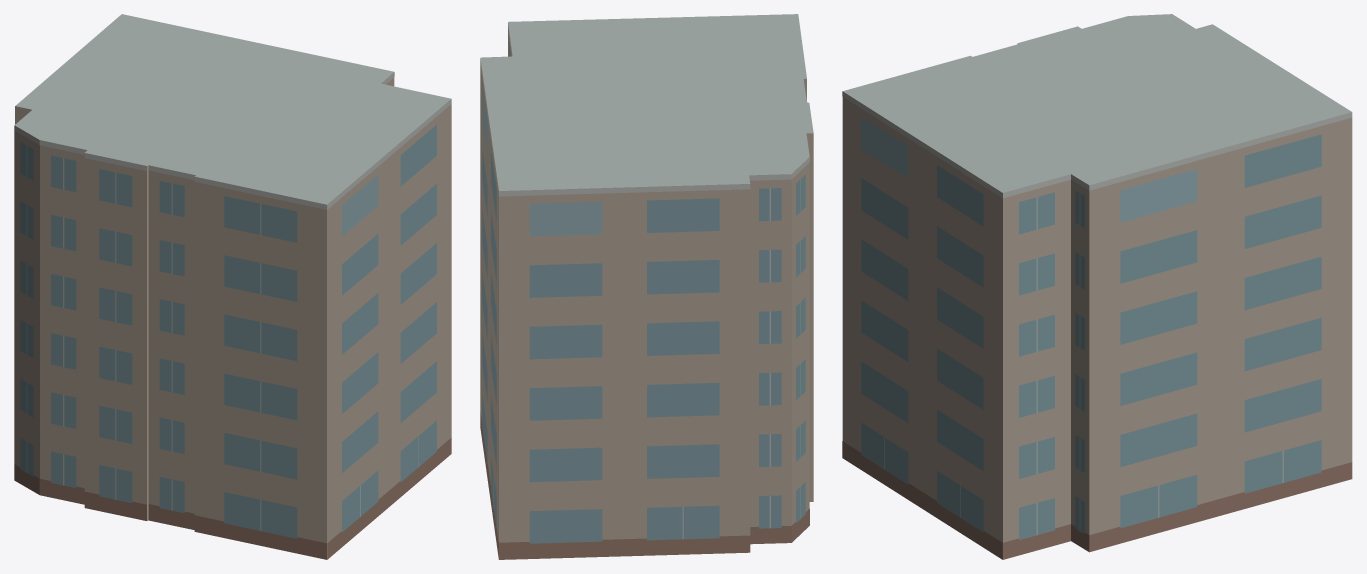
The model's file is survey-upis-32729141.glb.
3 views of the same model, side by side, from view 1: azimuth 30°, elevation 25°; view 2: azimuth 150°, elevation 25°; view 3: azimuth 270°, elevation 25° (orthographic). The views are drawn at different scales.
Visible parts, largest first — view 1: survey-upis-32729141.tmp; view 2: survey-upis-32729141.tmp; view 3: survey-upis-32729141.tmp.
Boxes of the visible parts, x1,y1,x2,y2 form: survey-upis-32729141.tmp: (14,14,451,559); survey-upis-32729141.tmp: (480,14,813,559); survey-upis-32729141.tmp: (842,14,1352,559).
Bounding box in the file's own units: 17.38 × 16.6 × 20.92.
